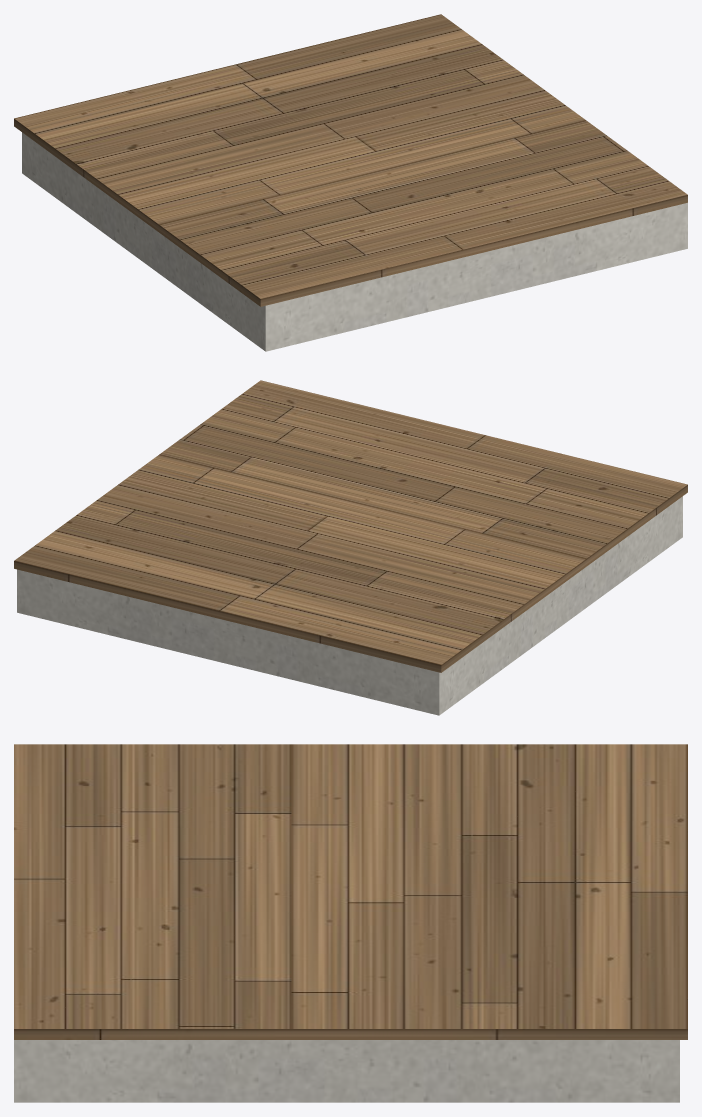
The model's file is floor_wood_c_e0_30_0_30.glb.
3 views of the same model, one above another, from view 1: azimuth 30°, elevation 25°; view 2: azimuth 150°, elevation 25°; view 3: azimuth 270°, elevation 25° (orthographic). The views are drawn at different scales.
Parts seen in each view (by area): view 1: floor_wood_c_e0_30_0_30_attic, floor_wood_c_e0_30_0_30_plaster; view 2: floor_wood_c_e0_30_0_30_attic, floor_wood_c_e0_30_0_30_plaster; view 3: floor_wood_c_e0_30_0_30_attic, floor_wood_c_e0_30_0_30_plaster.
Part boxes in pixels (x1,y1,x2,y2): floor_wood_c_e0_30_0_30_attic: (14, 14, 687, 306); floor_wood_c_e0_30_0_30_plaster: (22, 132, 687, 351); floor_wood_c_e0_30_0_30_attic: (14, 380, 687, 672); floor_wood_c_e0_30_0_30_plaster: (17, 496, 682, 715); floor_wood_c_e0_30_0_30_attic: (14, 744, 687, 1039); floor_wood_c_e0_30_0_30_plaster: (14, 1040, 679, 1102).
Size of the model in its own units: 1.7 by 0.205 by 1.7.
Materials: 2 (2 with a texture image).
